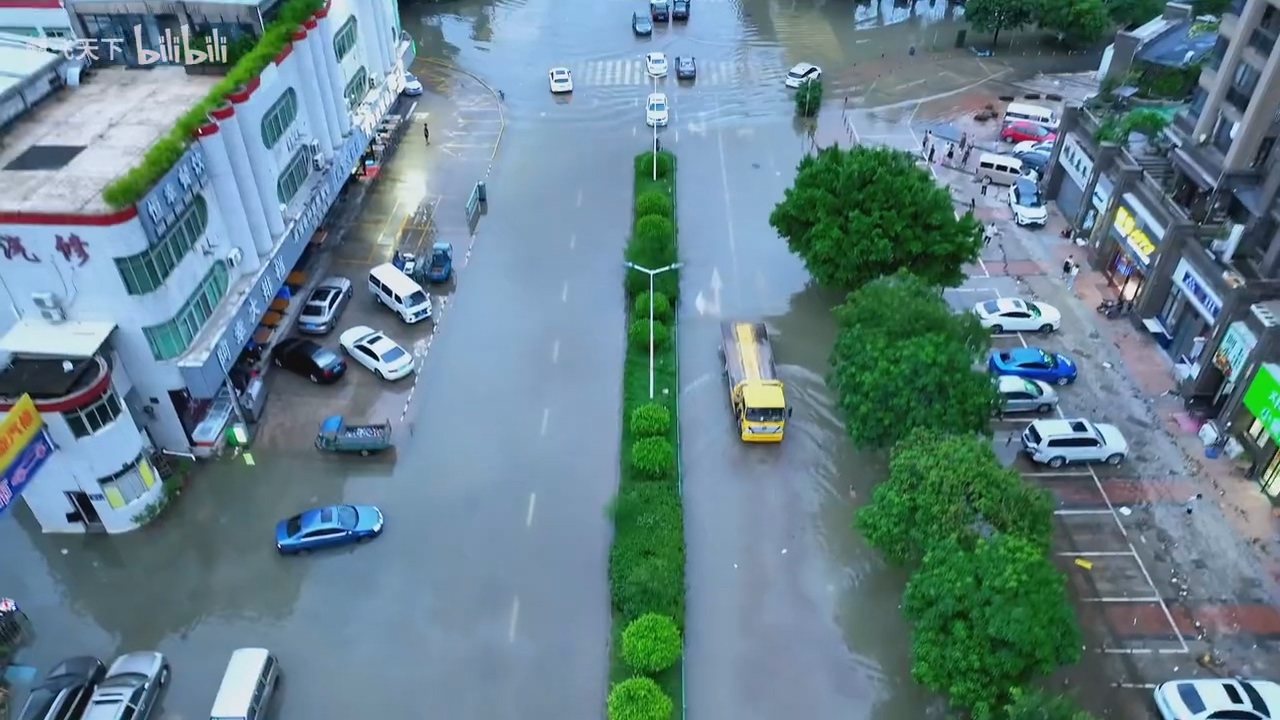puddle: (387, 176, 639, 720), (669, 176, 909, 720)
